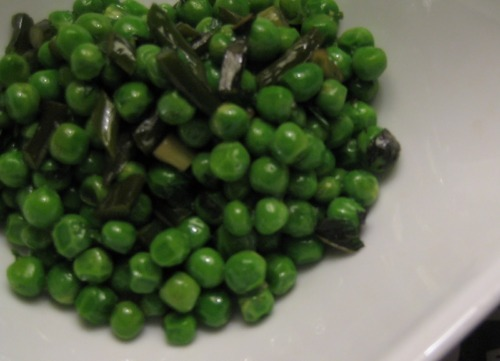boiled peas: (9, 1, 380, 325)
